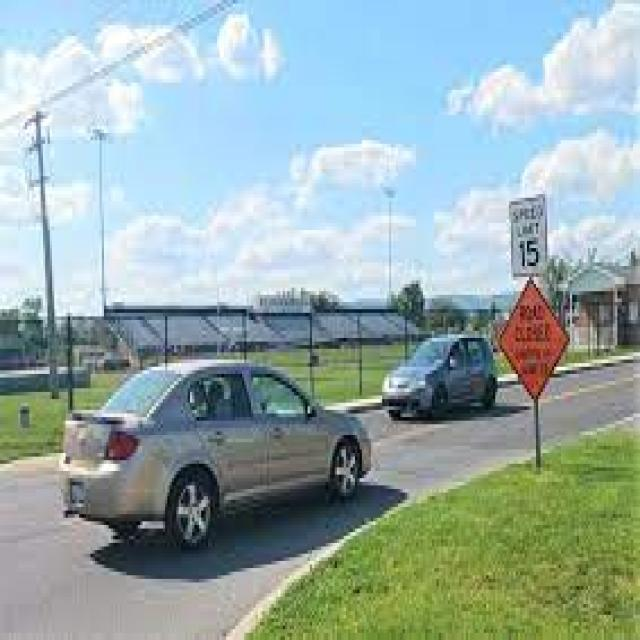speedLimit15: (506, 183, 550, 277)
